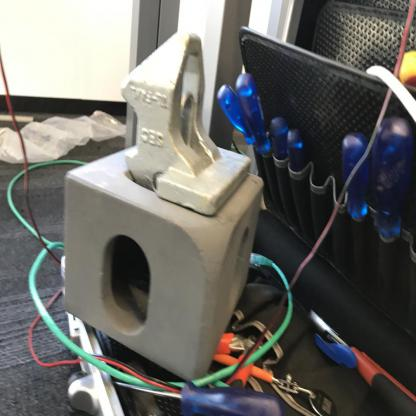CornerCasting: (61, 150, 269, 380)
Twistlock: (113, 23, 256, 216)
